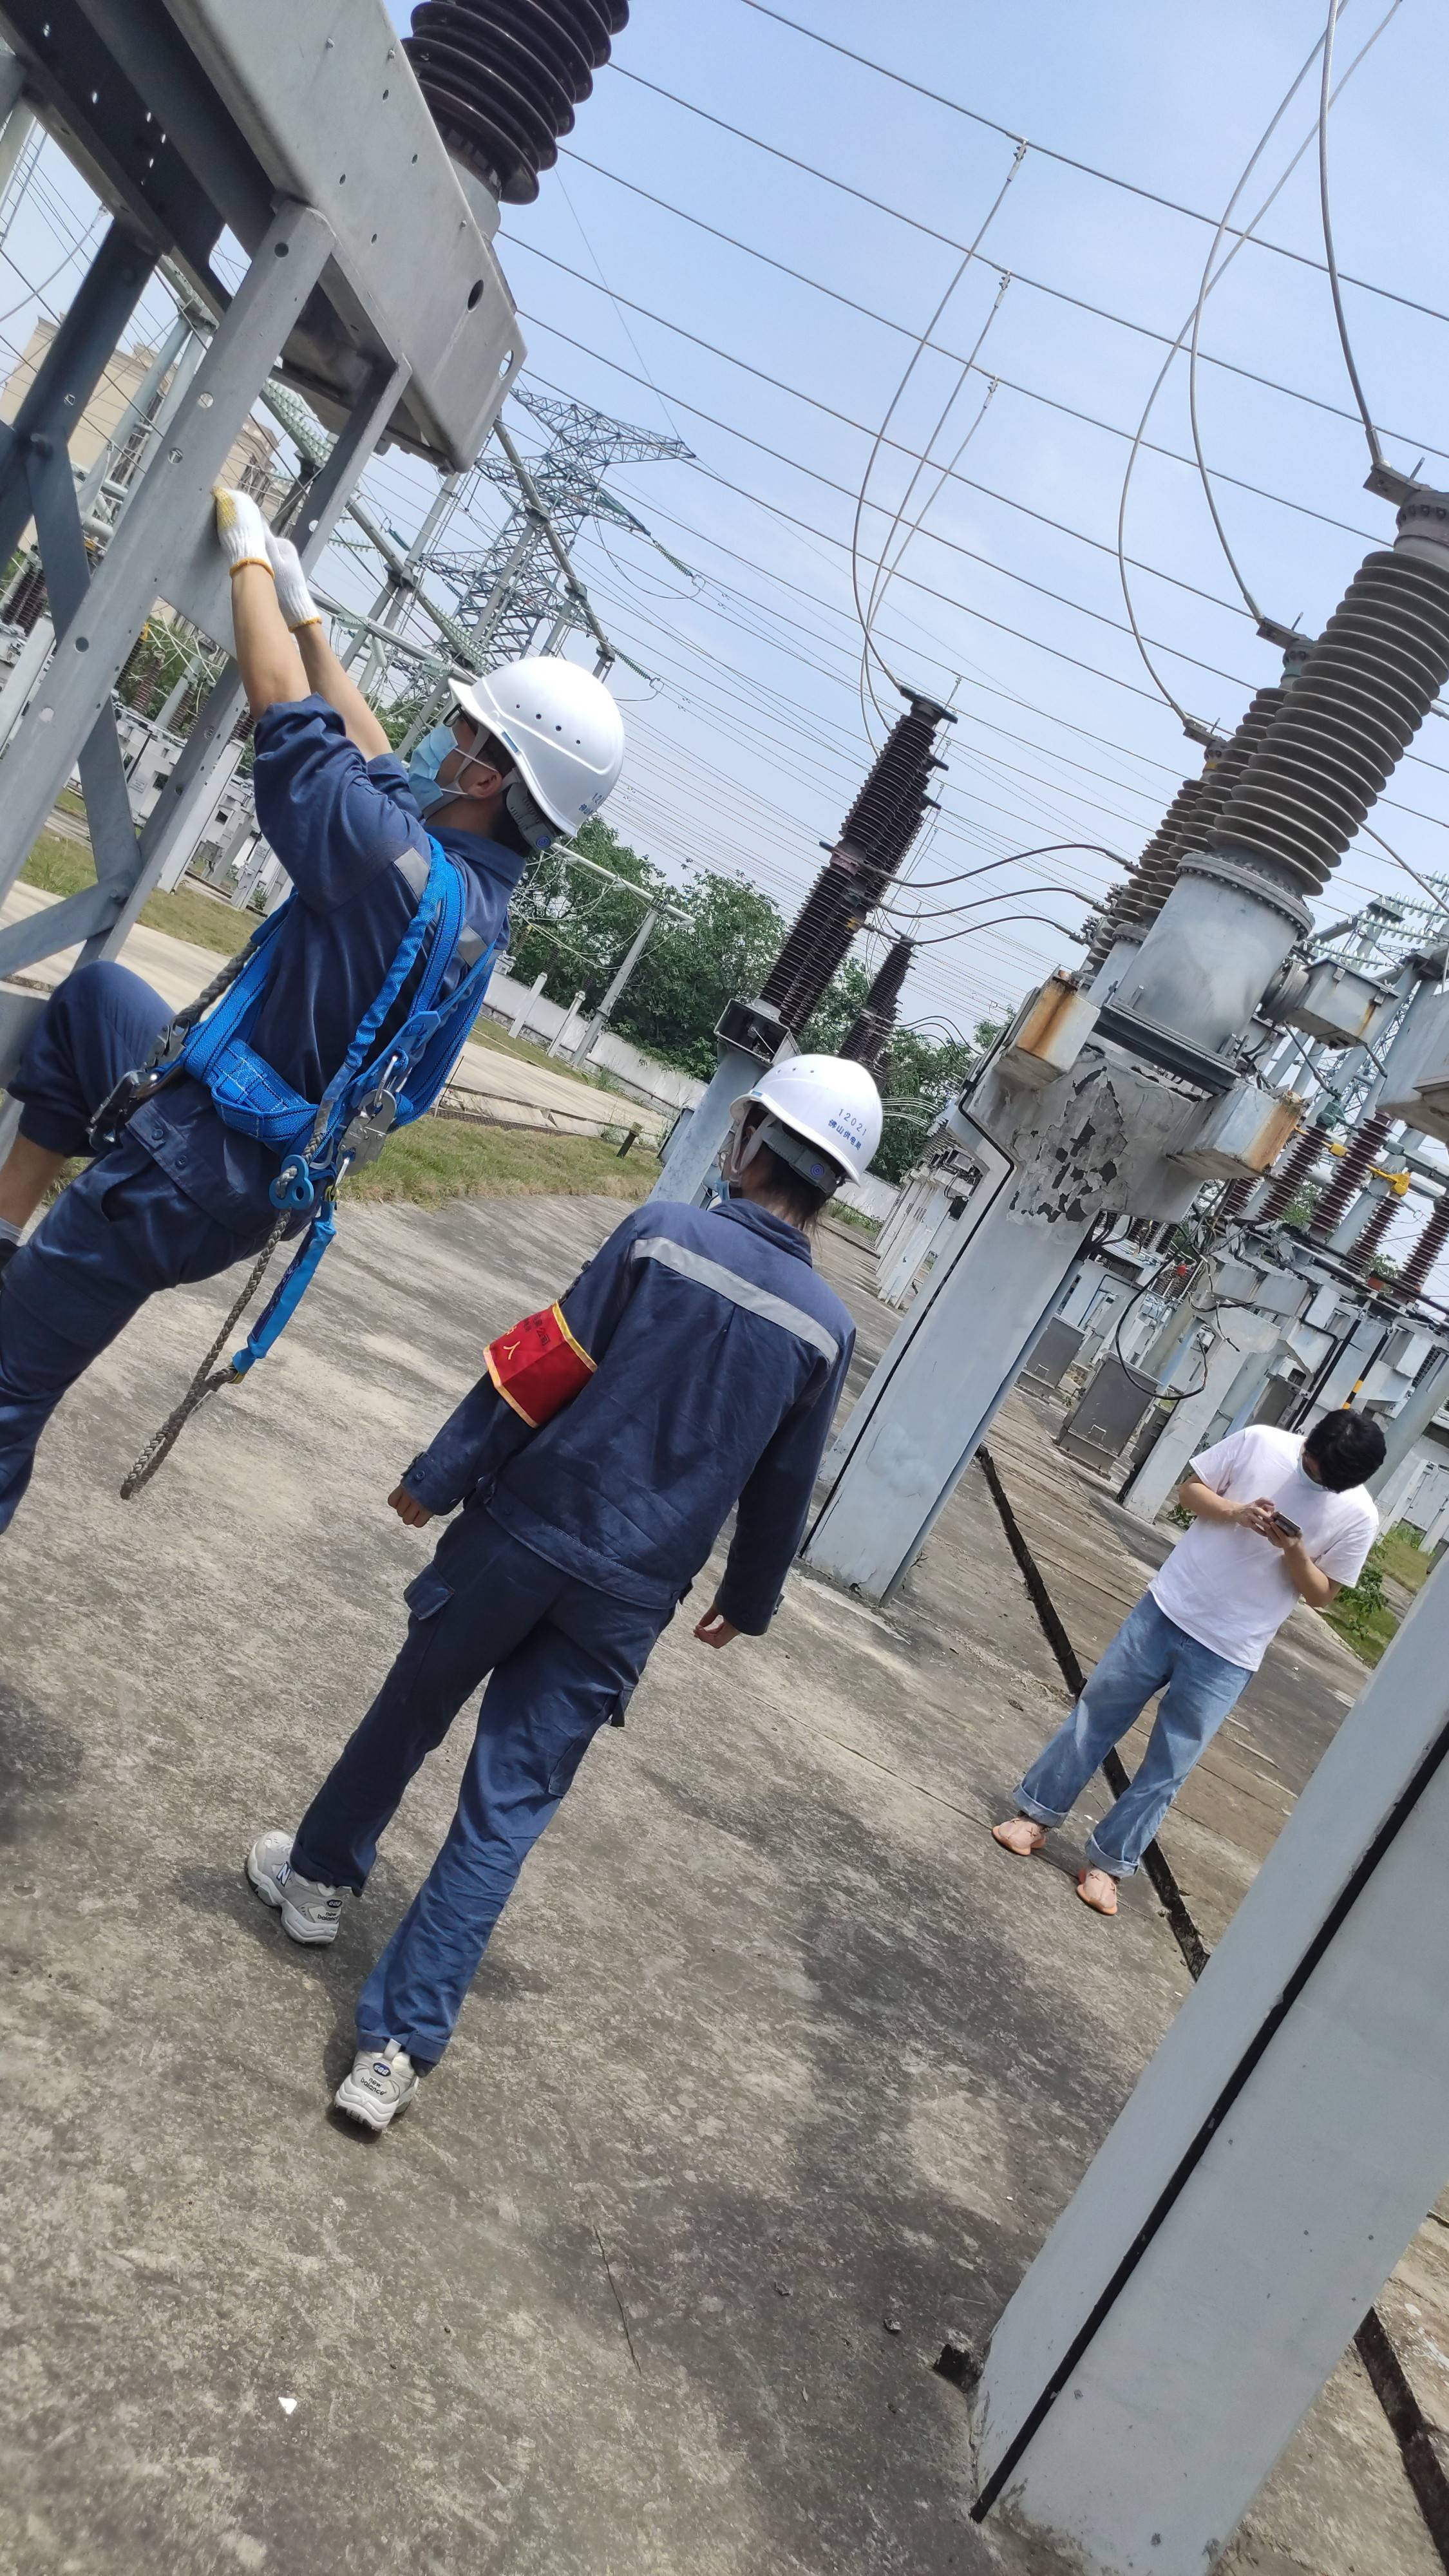downcloth: (1019, 1610, 1244, 1863)
downsuit: (2, 948, 306, 1545), (322, 1560, 655, 2061)
upcloth: (1168, 1426, 1369, 1652)
upsuit: (476, 1203, 855, 1575), (235, 720, 538, 1106)
wrongtop: (225, 552, 395, 757)
